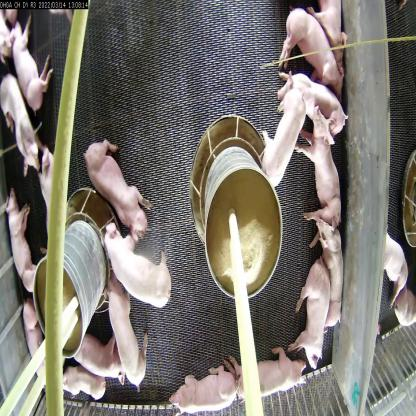Pig: (94, 206, 180, 312), (77, 131, 158, 237), (283, 1, 347, 97), (106, 276, 150, 402), (294, 103, 340, 220), (272, 64, 342, 136), (234, 342, 306, 409), (9, 19, 54, 118), (0, 67, 35, 178), (167, 363, 241, 415), (261, 96, 303, 182), (7, 186, 40, 288), (294, 260, 324, 372), (70, 332, 127, 390), (18, 294, 53, 387), (311, 214, 339, 328), (376, 220, 413, 294), (37, 143, 64, 227), (56, 366, 106, 406)
